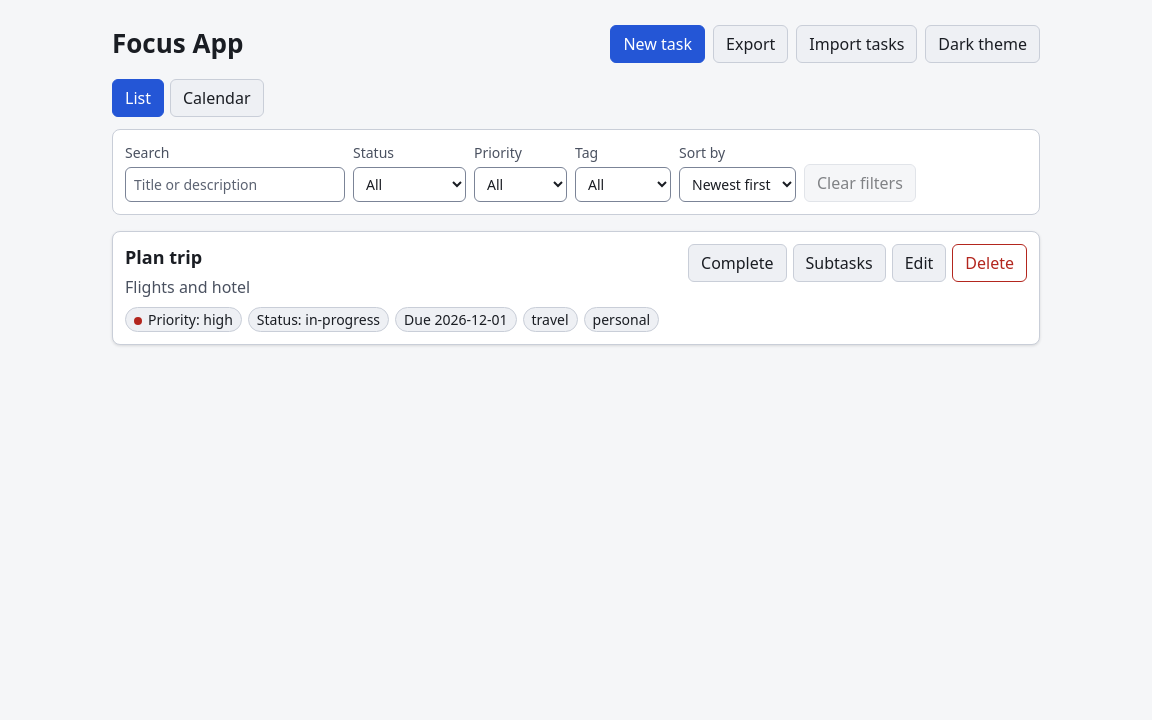
Test case: edit in the shared modal › saves a change and shows it in the list
The width and height of the screenshot is (1152, 720).
Click the button with aria-label "Edit Plan trip": [919, 263] box [892,244,946,282]
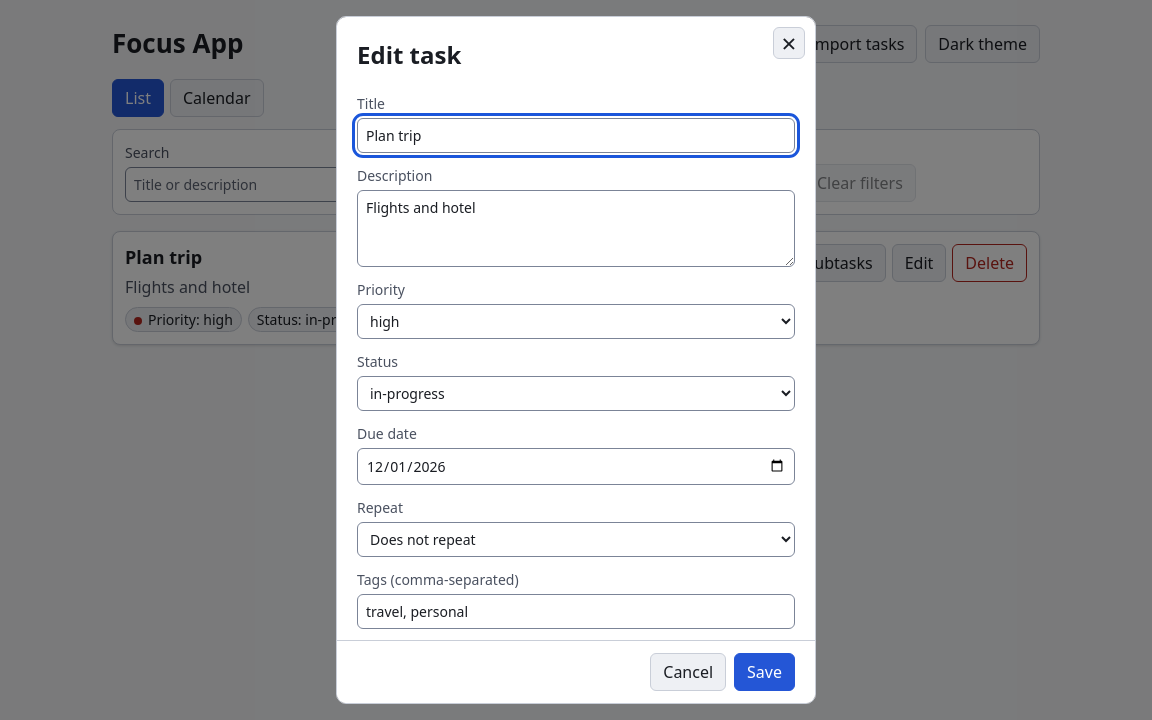
Replace the text in the field labelled "Title" with "Plan holiday": [576, 135] box [357,118,795,153]
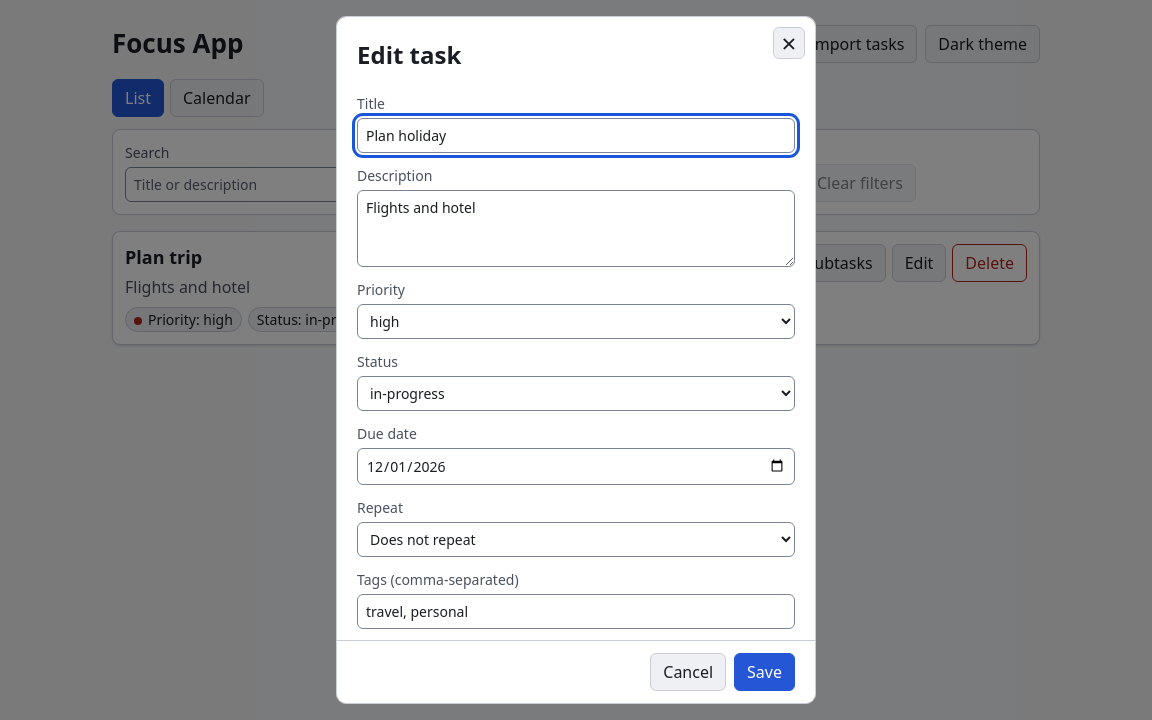
Click the button "Save": [765, 672] box [734,653,795,691]
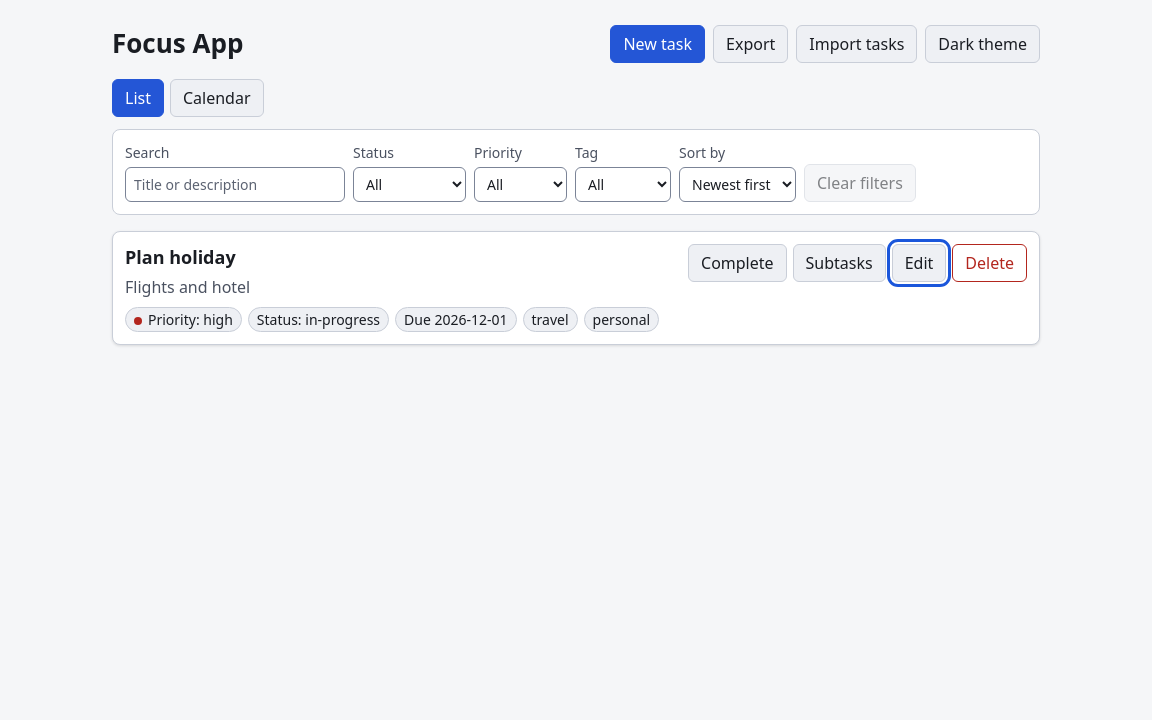
Now the dialog is gone
Now the heading "Plan holiday" is shown, box [125,245,236,269]
